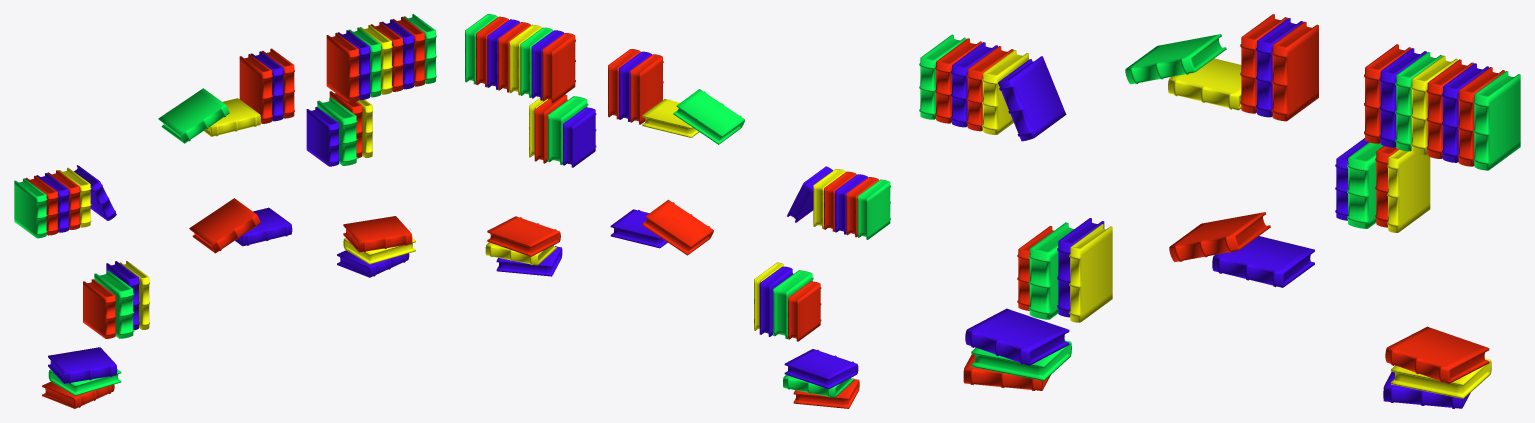
File: allbooks_fixed.fbx
3 views of the same model, side by side, from view 1: azimuth 30°, elevation 25°; view 2: azimuth 150°, elevation 25°; view 3: azimuth 330°, elevation 25° (orthographic). The views are drawn at different scales.
Parts seen in each view (by area): view 1: singlebook11, singlebook25, singlebook1, singlebook20, singlebook9, singlebook12, singlebook28, singlebook22, singlebook7, singlebook29, singlebook27, singlebook16 (+23 smaller); view 2: singlebook11, singlebook25, singlebook1, singlebook9, singlebook20, singlebook12, singlebook28, singlebook22, singlebook7, singlebook27, singlebook29, singlebook32 (+23 smaller); view 3: singlebook24, singlebook, singlebook20, singlebook9, singlebook19, singlebook35, singlebook16, singlebook34, singlebook11, singlebook25, singlebook32, singlebook29 (+23 smaller).
Part boxes in pixels (x1,y1,x2,y2): singlebook11: (189,198,260,253); singlebook25: (158,88,229,143); singlebook1: (326,32,359,102); singlebook20: (48,347,117,383); singlebook9: (343,216,412,252); singlebook12: (239,54,272,123); singlebook28: (14,178,47,238); singlebook22: (306,107,339,166); singlebook7: (83,279,116,338); singlebook29: (94,270,134,338); singlebook27: (317,97,357,165); singlebook16: (235,207,292,246); singlebook11: (642,199,713,255); singlebook25: (673,89,744,144); singlebook1: (542,33,575,103); singlebook9: (487,216,560,256); singlebook20: (784,349,858,389); singlebook12: (630,54,663,124); singlebook28: (857,179,890,239); singlebook22: (563,107,596,167); singlebook7: (788,281,821,341); singlebook27: (547,96,588,164); singlebook29: (773,270,813,338); singlebook32: (642,99,699,137); singlebook24: (1473,71,1520,170); singlebook: (1271,21,1318,121); singlebook20: (965,308,1069,365); singlebook9: (1385,326,1489,383); singlebook19: (998,56,1066,141); singlebook35: (1069,224,1112,322); singlebook16: (1212,236,1314,287); singlebook34: (1387,149,1430,232); singlebook11: (1169,212,1270,262); singlebook25: (1125,34,1226,84); singlebook32: (1168,58,1241,110); singlebook29: (1028,222,1074,319).
Size of the model in its own units: 8.35 by 5.73 by 1.11.
